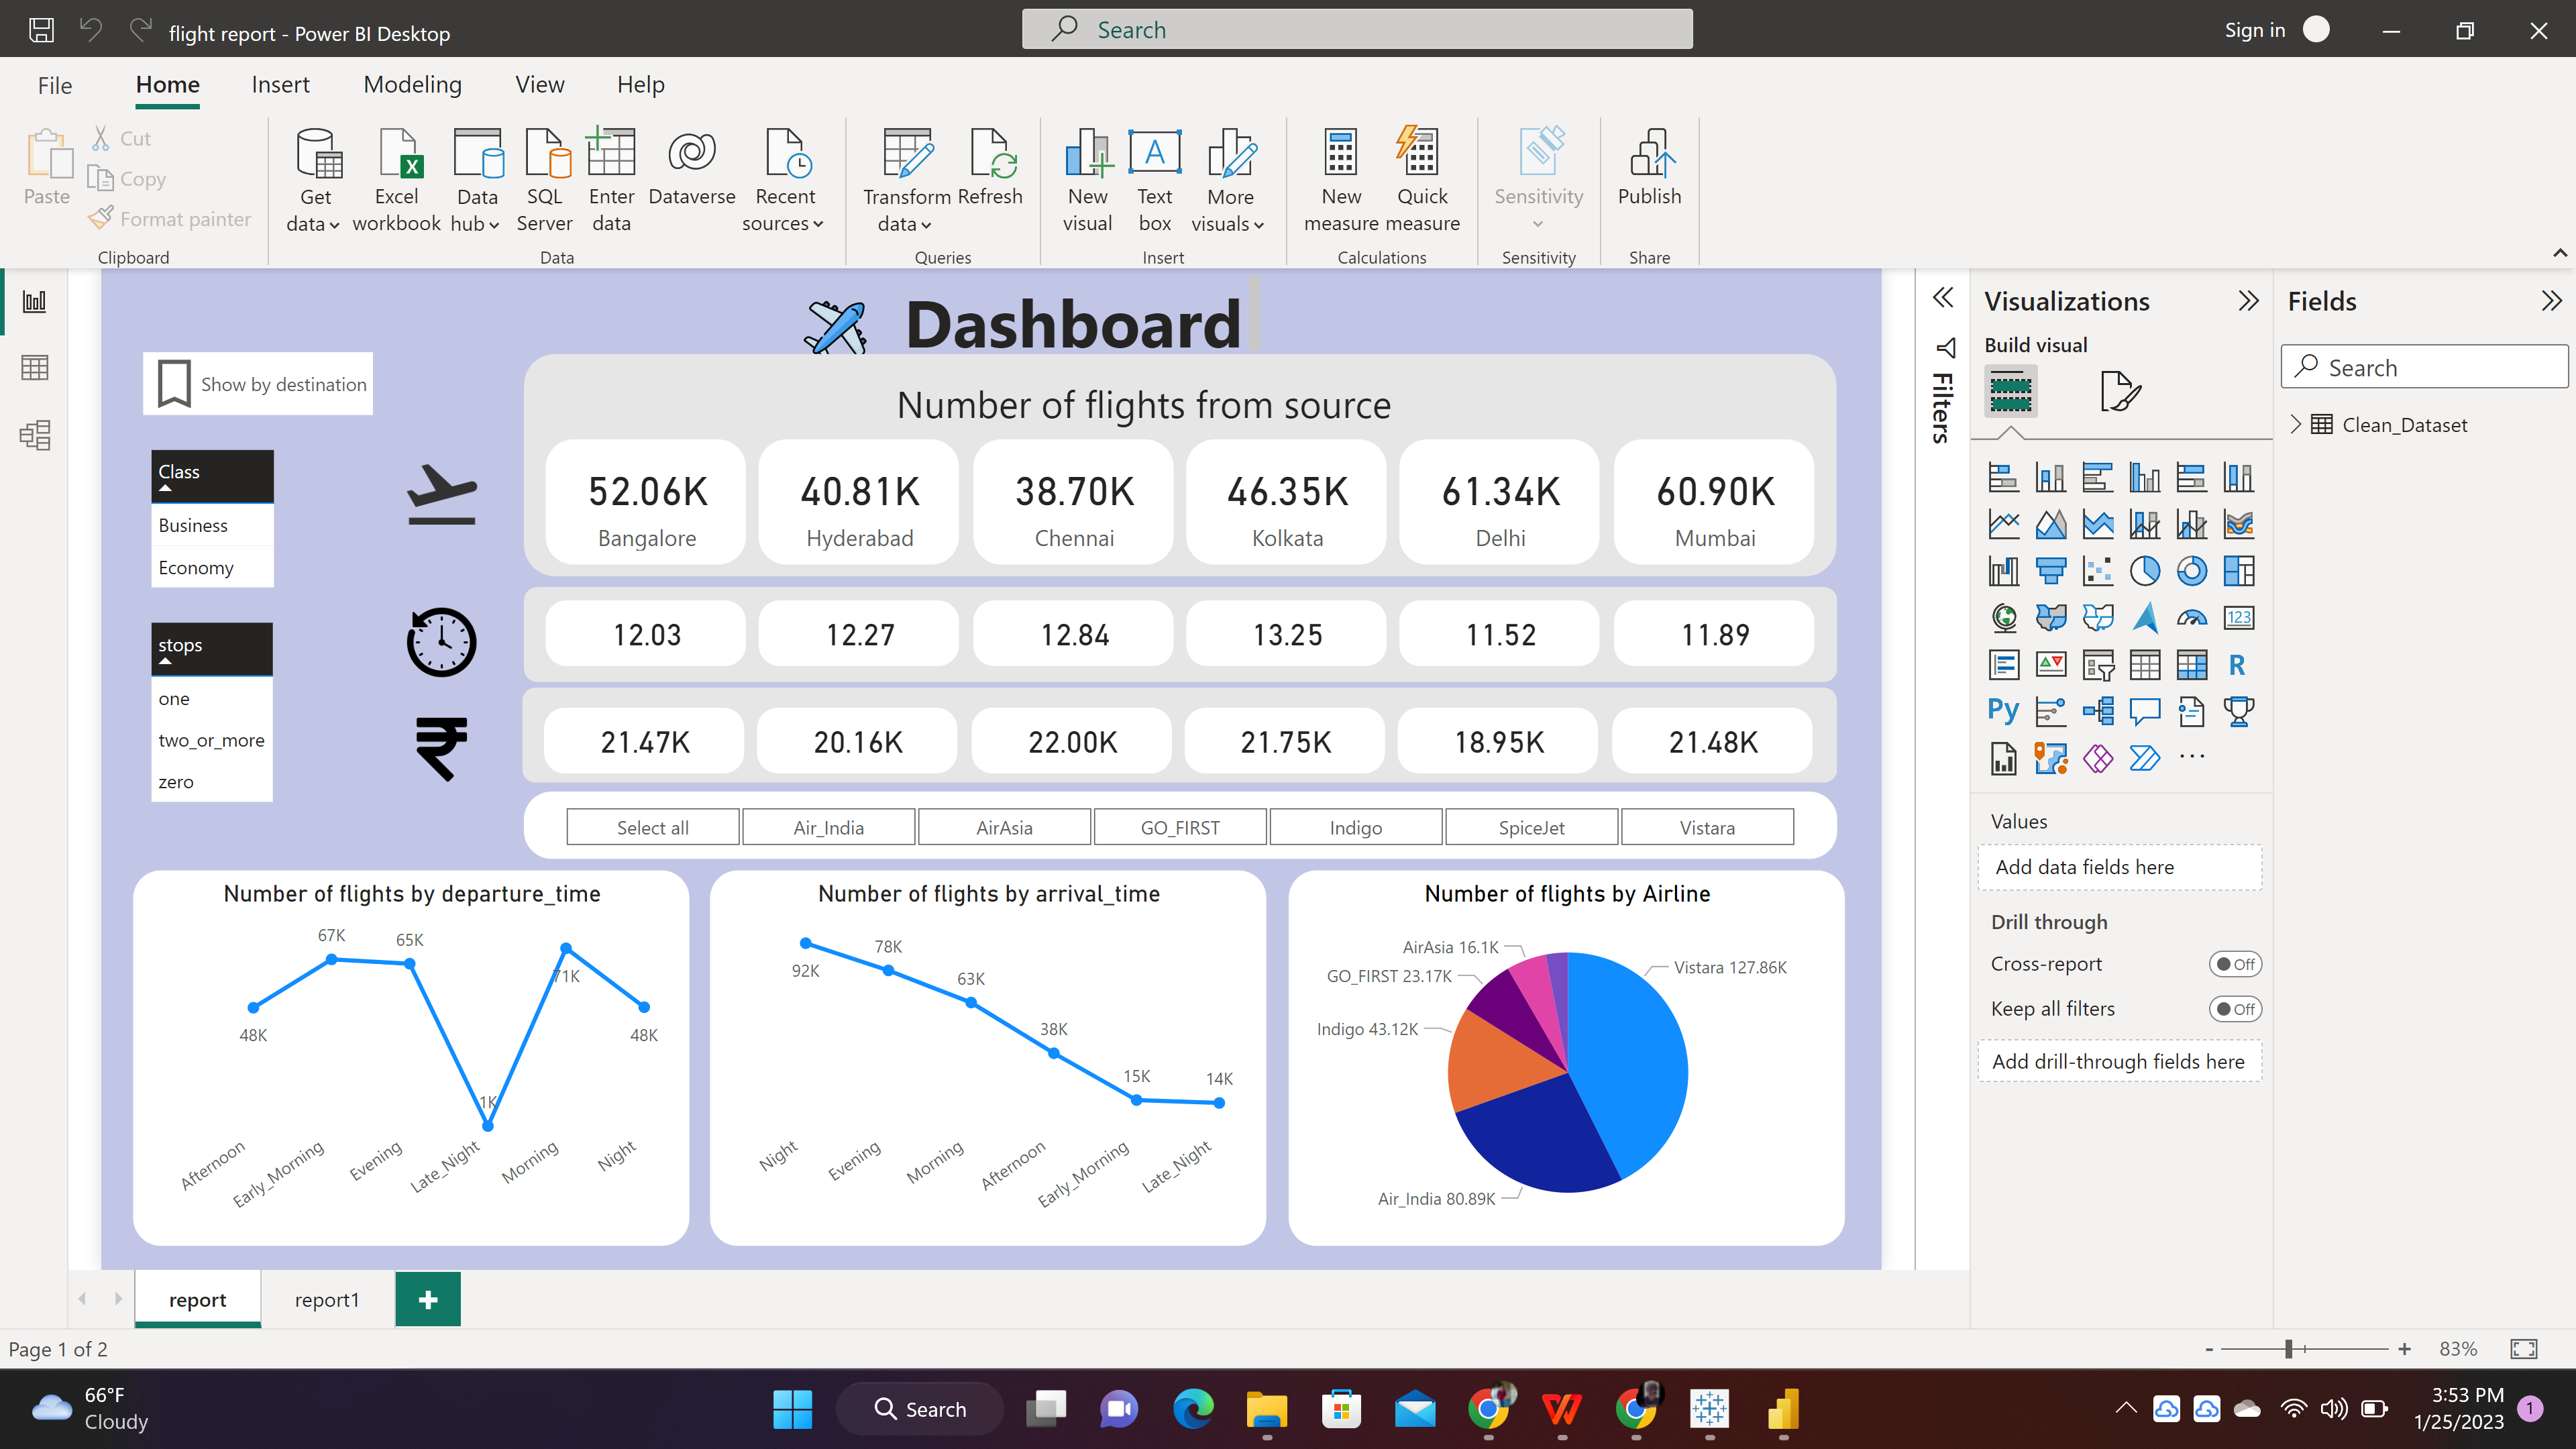

What the dashboard file says about the page in this screenshot:
{"tool":"powerbi","page":{"name":"report","canvas":[1280,720],"ordinal":0},"visuals":[{"type":"card","fields":{"Values":["CountNonNull(Clean_Dataset.flight)"]},"box":[319.5,123.3,144,90],"z":0,"group":"g1"},{"type":"card","fields":{"Values":["Avg(Clean_Dataset.duration)"]},"box":[319.5,239.3,144,47.1],"z":0,"group":"g2"},{"type":"shape","title":"price bg","box":[302.9,301.4,945.7,68.6],"z":0},{"type":"card","fields":{"Values":["Avg(Clean_Dataset.price)"]},"box":[318.4,315.6,144,47.1],"z":0,"group":"g3"},{"type":"image","title":"Plane","box":[461.9,18.1,131.5,55.5],"z":1000},{"type":"card","fields":{"Values":["CountNonNull(Clean_Dataset.flight)"]},"box":[626.7,123.3,144,90],"z":1000,"group":"g1"},{"type":"card","fields":{"Values":["Avg(Clean_Dataset.duration)"]},"box":[473.1,239.3,144,47.1],"z":1000,"group":"g2"},{"type":"card","fields":{"Values":["Avg(Clean_Dataset.price)"]},"box":[472,315.6,144,47.1],"z":1000,"group":"g3"},{"type":"card","fields":{"Values":["CountNonNull(Clean_Dataset.flight)"]},"box":[780.3,123.3,144,90],"z":2000,"group":"g1"},{"type":"image","title":"Time","box":[214.3,239,60,60],"z":2000},{"type":"card","fields":{"Values":["Avg(Clean_Dataset.duration)"]},"box":[626.7,239.3,144,47.1],"z":2000,"group":"g2"},{"type":"card","fields":{"Values":["Avg(Clean_Dataset.price)"]},"box":[625.6,315.6,144,47.1],"z":2000,"group":"g3"},{"type":"card","fields":{"Values":["CountNonNull(Clean_Dataset.flight)"]},"box":[473.1,123.3,144,90],"z":3000,"group":"g1"},{"type":"card","fields":{"Values":["Avg(Clean_Dataset.duration)"]},"box":[780.3,239.3,144,47.1],"z":3000,"group":"g2"},{"type":"card","fields":{"Values":["Avg(Clean_Dataset.price)"]},"box":[779.2,315.6,144,47.1],"z":3000,"group":"g3"},{"type":"image","title":"Rs","box":[214.3,316.2,60,60],"z":3000},{"type":"card","fields":{"Values":["CountNonNull(Clean_Dataset.flight)"]},"box":[933.9,123.3,144,90],"z":4000,"group":"g1"},{"type":"shape","title":"duration bg","box":[303.8,229,944.3,68.6],"z":4000},{"type":"card","fields":{"Values":["Avg(Clean_Dataset.duration)"]},"box":[933.9,239.3,144,47.1],"z":4000,"group":"g2"},{"type":"card","fields":{"Values":["Avg(Clean_Dataset.price)"]},"box":[932.8,315.6,144,47.1],"z":4000,"group":"g3"},{"type":"shape","title":"# of flights bg","box":[303.5,61.3,944,160],"z":5000},{"type":"card","fields":{"Values":["CountNonNull(Clean_Dataset.flight)"]},"box":[1087.5,123.3,144,90],"z":5000,"group":"g1"},{"type":"card","fields":{"Values":["Avg(Clean_Dataset.duration)"]},"box":[1087.5,239.3,144,47.1],"z":5000,"group":"g2"},{"type":"card","fields":{"Values":["Avg(Clean_Dataset.price)"]},"box":[1086.4,315.6,144,47.1],"z":5000,"group":"g3"},{"type":"lineChart","title":"Number of flights by arrival_time","fields":{"Category":["Clean_Dataset.arrival_time"],"Y":["CountNonNull(Clean_Dataset.flight)"]},"box":[438.3,433.3,400,270],"z":6000},{"type":"textbox","title":"# of flights by source","box":[566.8,73.6,416.1,63.9],"z":7000},{"type":"group","id":"g1","title":"Flights by source","box":[319.5,123.3,912,90],"z":8000},{"type":"lineChart","title":"Number of flights by departure_time","fields":{"Y":["CountNonNull(Clean_Dataset.flight)"],"Category":["Clean_Dataset.departure_time"]},"box":[23.3,433.3,400,270],"z":11000},{"type":"textbox","title":"Page Header","box":[554.8,0,283.4,68.7],"z":12000},{"type":"slicer","title":"Slicer Airline","fields":{"Values":["Clean_Dataset.airline"]},"box":[303.9,376.3,944.3,48.2],"z":13000},{"type":"actionButton","title":"show by destination button","box":[30,60,165,45],"z":15000},{"type":"group","id":"g2","title":"duration by source","box":[319.5,239.3,912,47.1],"z":16000},{"type":"group","id":"g3","title":"price by source","box":[318.4,315.6,912.2,47.8],"z":19000},{"type":"image","title":"takeoff","box":[209.8,126.1,70,70],"z":21000},{"type":"tableEx","fields":{"Values":["Clean_Dataset.class"]},"box":[30,125.7,134.3,124.3],"z":22000},{"type":"tableEx","fields":{"Values":["Clean_Dataset.stops"]},"box":[30.2,249.6,156.8,149.5],"z":23000},{"type":"pieChart","title":"Number of flights by Airline","fields":{"Category":["Clean_Dataset.airline"],"Y":["CountNonNull(Clean_Dataset.flight)"]},"box":[853.3,433.3,400,270],"z":24000}]}

Visuals, with their boxes on the page's 1280x720 design canvas (x1, y1, x2, y2). These are canvas units, not pixel positions in the 2576x1449 screenshot, which may show the page scaled, cropped or inside an application window:
card - CountNonNull(Clean_Dataset.flight): region(320, 123, 464, 213)
card - Avg(Clean_Dataset.duration): region(320, 239, 464, 286)
"price bg" shape: region(303, 301, 1249, 370)
card - Avg(Clean_Dataset.price): region(318, 316, 462, 363)
"Plane" image: region(462, 18, 593, 74)
card - CountNonNull(Clean_Dataset.flight): region(627, 123, 771, 213)
card - Avg(Clean_Dataset.duration): region(473, 239, 617, 286)
card - Avg(Clean_Dataset.price): region(472, 316, 616, 363)
card - CountNonNull(Clean_Dataset.flight): region(780, 123, 924, 213)
"Time" image: region(214, 239, 274, 299)
card - Avg(Clean_Dataset.duration): region(627, 239, 771, 286)
card - Avg(Clean_Dataset.price): region(626, 316, 770, 363)
card - CountNonNull(Clean_Dataset.flight): region(473, 123, 617, 213)
card - Avg(Clean_Dataset.duration): region(780, 239, 924, 286)
card - Avg(Clean_Dataset.price): region(779, 316, 923, 363)
"Rs" image: region(214, 316, 274, 376)
card - CountNonNull(Clean_Dataset.flight): region(934, 123, 1078, 213)
"duration bg" shape: region(304, 229, 1248, 298)
card - Avg(Clean_Dataset.duration): region(934, 239, 1078, 286)
card - Avg(Clean_Dataset.price): region(933, 316, 1077, 363)
"# of flights bg" shape: region(304, 61, 1248, 221)
card - CountNonNull(Clean_Dataset.flight): region(1088, 123, 1232, 213)
card - Avg(Clean_Dataset.duration): region(1088, 239, 1232, 286)
card - Avg(Clean_Dataset.price): region(1086, 316, 1230, 363)
"Number of flights by arrival_time" lineChart: region(438, 433, 838, 703)
"# of flights by source" textbox: region(567, 74, 983, 138)
"Flights by source" group: region(320, 123, 1232, 213)
"Number of flights by departure_time" lineChart: region(23, 433, 423, 703)
"Page Header" textbox: region(555, 0, 838, 69)
"Slicer Airline" slicer: region(304, 376, 1248, 424)
"show by destination button" actionButton: region(30, 60, 195, 105)
"duration by source" group: region(320, 239, 1232, 286)
"price by source" group: region(318, 316, 1231, 363)
"takeoff" image: region(210, 126, 280, 196)
tableEx - Clean_Dataset.class: region(30, 126, 164, 250)
tableEx - Clean_Dataset.stops: region(30, 250, 187, 399)
"Number of flights by Airline" pieChart: region(853, 433, 1253, 703)
